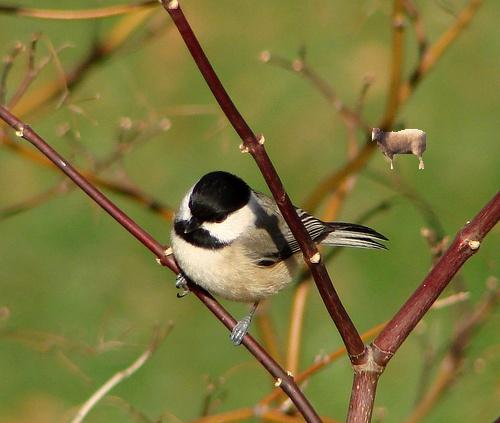tampered: (373, 129, 426, 169)
